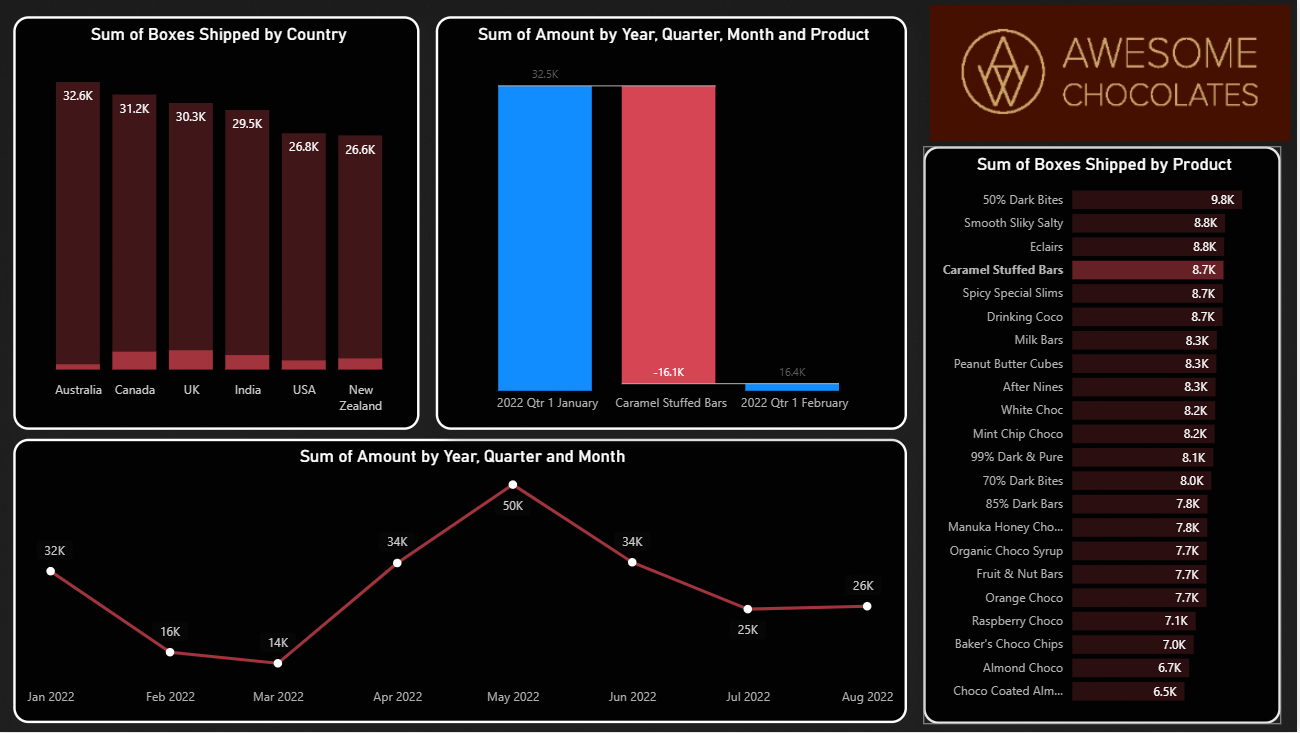

Layout of this report page (visuals, bound fields, positions):
{"tool":"powerbi","page":{"name":"Dashboard","canvas":[1280,720],"ordinal":0},"visuals":[{"type":"columnChart","fields":{"Category":["data.Country"],"Y":["Sum(data.Boxes Shipped)"]},"box":[16,16,400,407],"z":0},{"type":"barChart","fields":{"Category":["data.Product"],"Y":["Sum(data.Boxes Shipped)"]},"box":[912,144,352,569],"z":1},{"type":"lineChart","fields":{"Category":["data.Date.Variation.Date Hierarchy.Year","data.Date.Variation.Date Hierarchy.Quarter","data.Date.Variation.Date Hierarchy.Month","data.Date.Variation.Date Hierarchy.Day"],"Y":["Sum(data.Amount)"]},"box":[16,432,880,280],"z":2},{"type":"waterfallChart","fields":{"Category":["data.Date.Variation.Date Hierarchy.Year","data.Date.Variation.Date Hierarchy.Quarter","data.Date.Variation.Date Hierarchy.Month"],"Breakdown":["data.Product"],"Y":["Sum(data.Amount)"]},"box":[432,16,464,407],"z":3},{"type":"image","box":[912,0,368,144],"z":4}]}

Visuals, with their boxes in screenshot pixels (x1, y1, x2, y2), scaled from the page's 1280x720 canvas onto the 1300x733 screenshot:
columnChart - data.Country x Sum(data.Boxes Shipped): [left=16, top=16, right=422, bottom=431]
barChart - data.Product x Sum(data.Boxes Shipped): [left=926, top=147, right=1284, bottom=726]
lineChart - data.Date.Variation.Date Hierarchy.Year x data.Date.Variation.Date Hierarchy.Quarter: [left=16, top=440, right=910, bottom=725]
waterfallChart - data.Date.Variation.Date Hierarchy.Year x data.Date.Variation.Date Hierarchy.Quarter: [left=439, top=16, right=910, bottom=431]
image: [left=926, top=0, right=1299, bottom=147]
